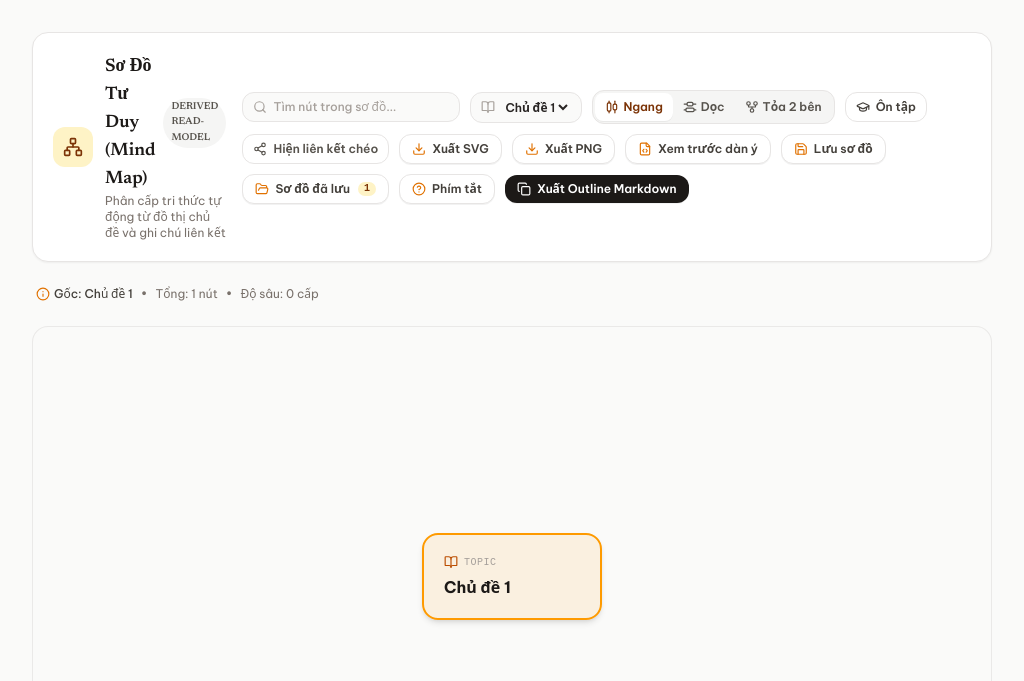
Test case: Mind Map Canvas Undo/Redo Component Integration (Phase P5) › 1. Renders Undo and Redo toolbar buttons in saved-document mode with initial disabled state
Switch to saved document mode via Document Browser or direct button
Click the button with test id "btn-open-mindmap-browser" at (316, 189), box x1=242 y1=174 x2=389 y2=204
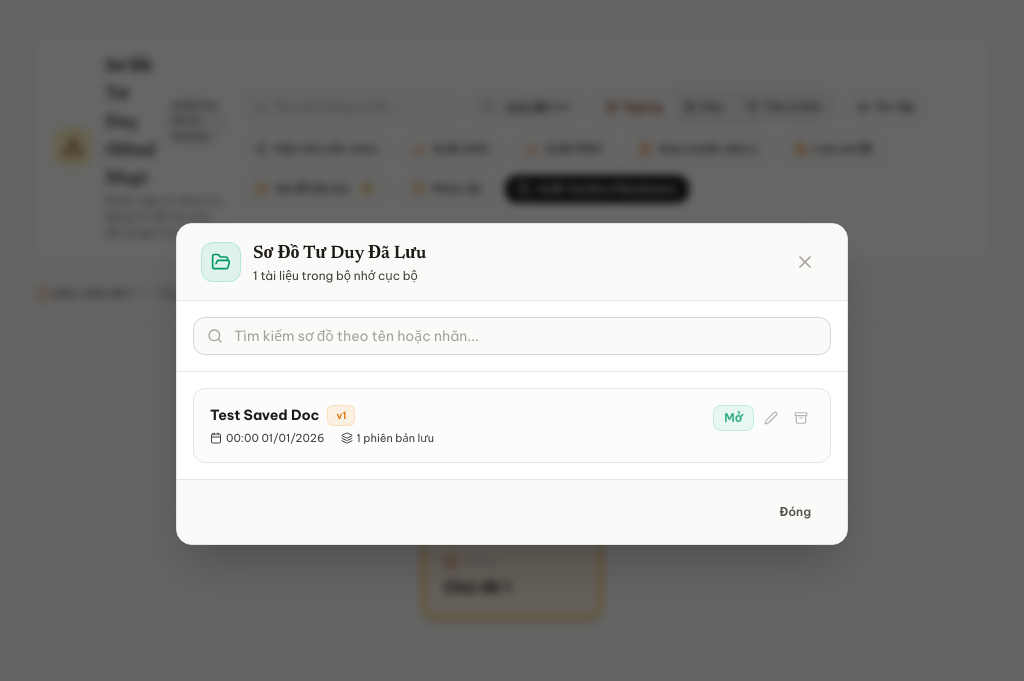
Click the button with test id "btn-open-doc-123" at (734, 418), box x1=713 y1=405 x2=754 y2=431
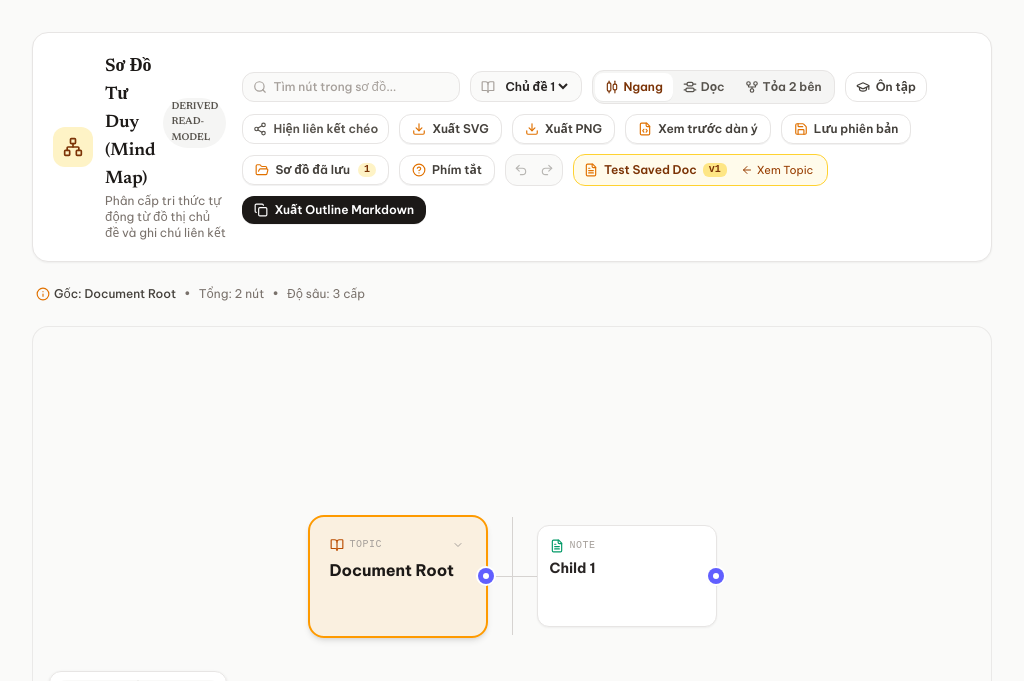
Now the button with test id "mindmap-undo-button" is disabled, box x1=508 y1=157 x2=534 y2=183
Now the button with test id "mindmap-redo-button" is disabled, box x1=534 y1=157 x2=560 y2=183
